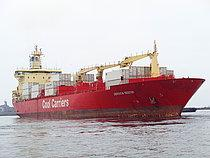Ship: (9, 42, 209, 125)
